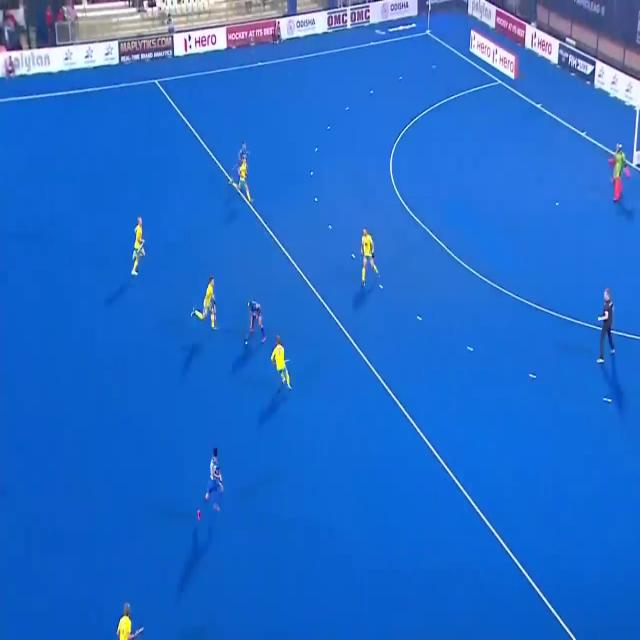ball: (243, 338, 249, 347)
